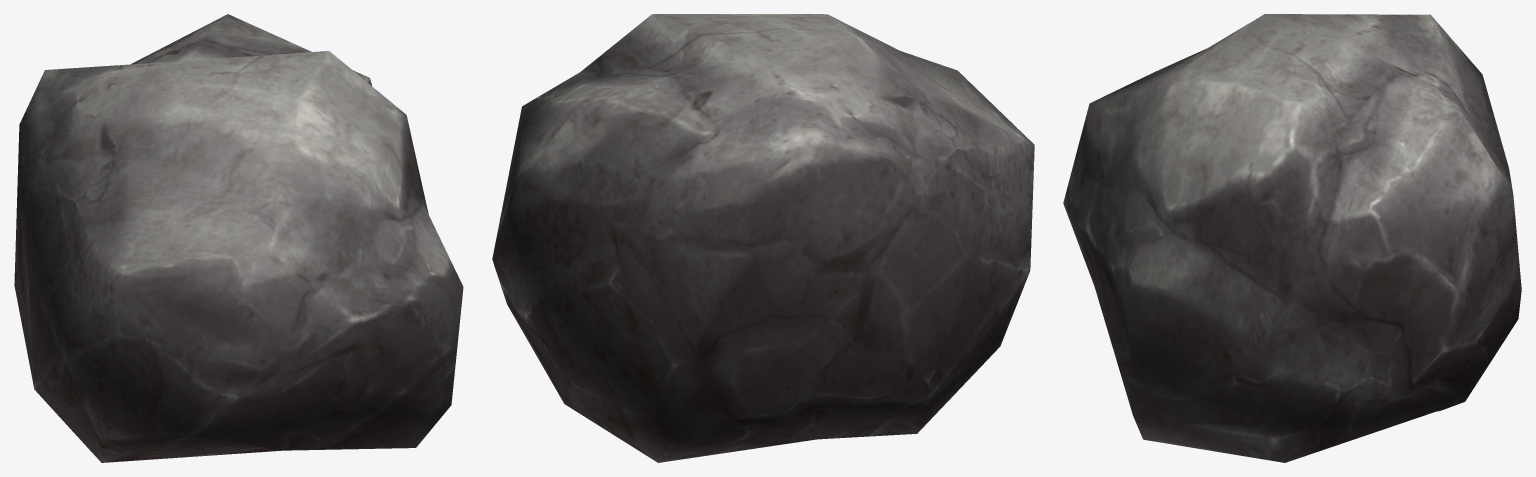
File: yunshi.FBX
The picture shows the model from 3 angles, left to right: view 1: azimuth 30°, elevation 25°; view 2: azimuth 150°, elevation 25°; view 3: azimuth 270°, elevation 25°; orthographic projection. The views are drawn at different scales.
Parts seen in each view (by area): view 1: qudong_hp_attack_04_shitou_bf; view 2: qudong_hp_attack_04_shitou_bf; view 3: qudong_hp_attack_04_shitou_bf.
Part boxes in pixels (<box>): qudong_hp_attack_04_shitou_bf: <box>14,14,463,462</box>; qudong_hp_attack_04_shitou_bf: <box>492,14,1034,462</box>; qudong_hp_attack_04_shitou_bf: <box>1063,14,1521,462</box>.
Bounding box in the file's own units: 205 × 176 × 209.
